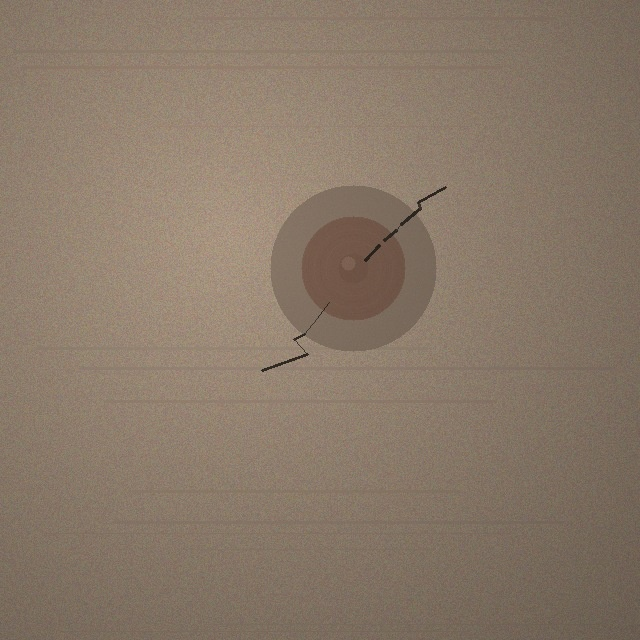crack: (270, 185, 436, 351)
